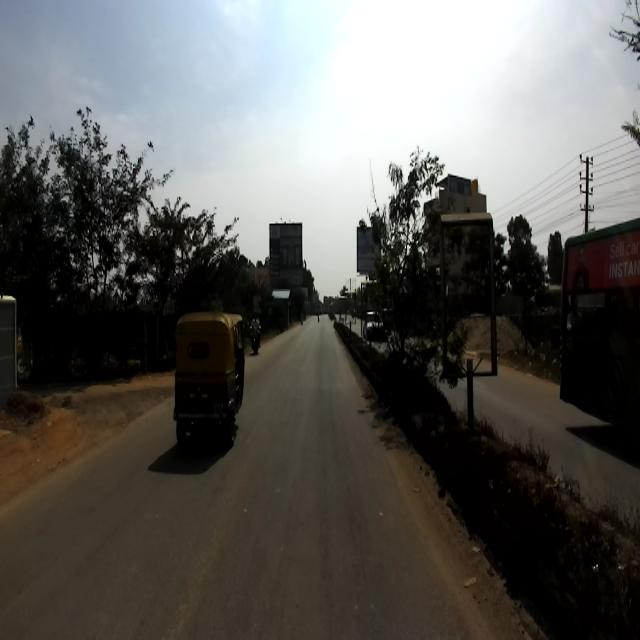auto ahead at: (165, 289, 248, 453)
